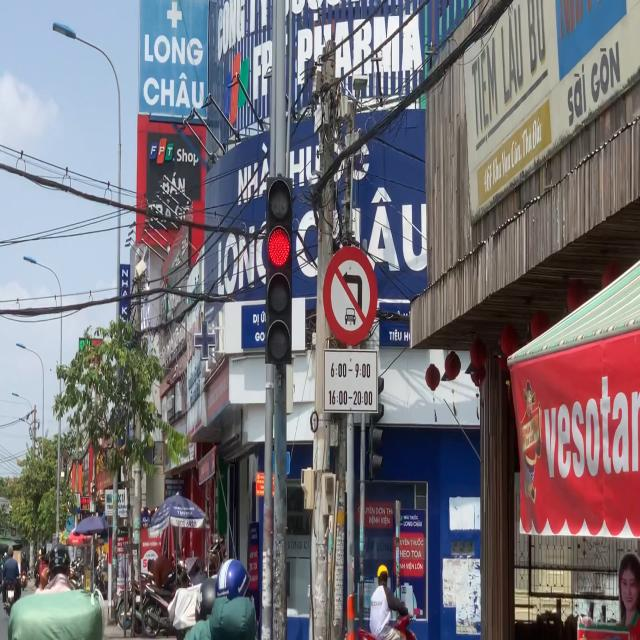Cam re trai: (324, 246, 378, 344)
